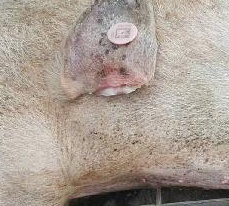text: (98, 11, 148, 56)
